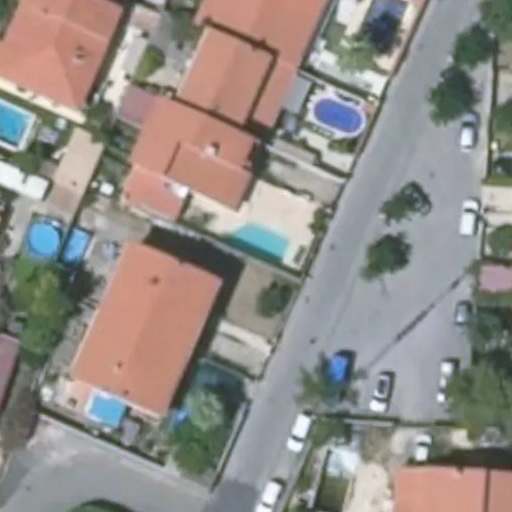pool: (216, 234, 295, 239)
